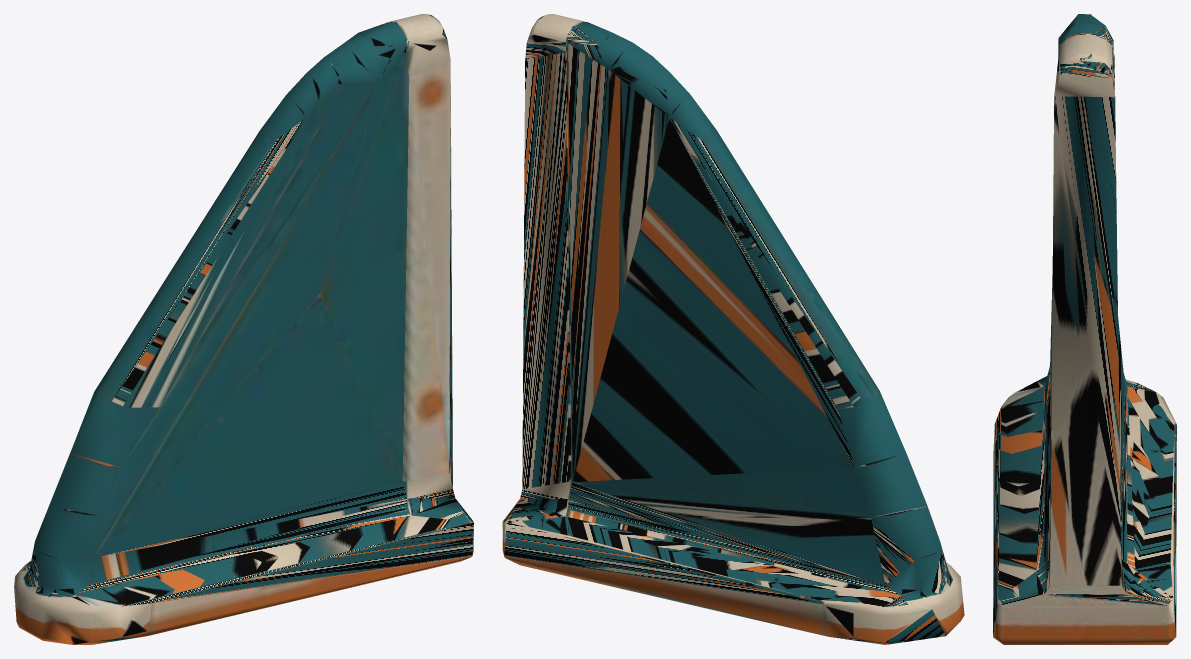
The model's file is rocket_fin-lod1.a19e71113116.glb.
The picture shows the model from 3 angles, left to right: view 1: azimuth 30°, elevation 25°; view 2: azimuth 150°, elevation 25°; view 3: azimuth 270°, elevation 25°; orthographic projection. The views are drawn at different scales.
Visible parts, largest first — view 1: geometry_0; view 2: geometry_0; view 3: geometry_0.
Boxes of the visible parts, x1,y1,x2,y2 form: geometry_0: [14, 14, 473, 644]; geometry_0: [502, 14, 964, 644]; geometry_0: [993, 14, 1176, 644].
Bounding box in the file's own units: 0.7979 × 0.9521 × 0.2676.
1 material, 1 textured.
